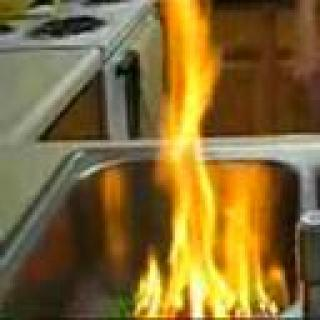fire: (139, 0, 283, 314)
